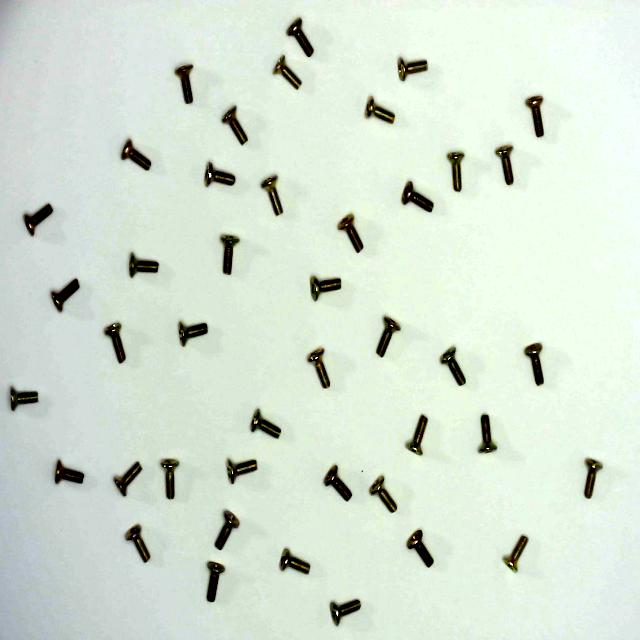Screws: (115, 134, 162, 178), (331, 205, 368, 257), (219, 105, 262, 149), (258, 168, 290, 223), (305, 342, 335, 400), (436, 338, 470, 389), (274, 542, 316, 583), (520, 333, 548, 393), (99, 319, 131, 369), (247, 402, 286, 443), (201, 160, 245, 196), (174, 317, 216, 354), (173, 59, 204, 109), (124, 248, 168, 282), (399, 180, 438, 218), (320, 463, 357, 503), (362, 95, 403, 131), (404, 525, 436, 571), (525, 87, 551, 143), (325, 591, 363, 629), (115, 454, 147, 499), (287, 16, 322, 57), (122, 523, 156, 565), (51, 452, 87, 491), (215, 504, 244, 552), (223, 452, 261, 488), (271, 59, 305, 99), (218, 226, 242, 282), (51, 273, 84, 313), (474, 408, 500, 458), (21, 196, 54, 235), (305, 269, 344, 302), (374, 312, 399, 363), (494, 141, 520, 190), (405, 411, 431, 460), (578, 454, 604, 503), (7, 379, 41, 416), (368, 474, 399, 514), (395, 54, 439, 82), (502, 535, 531, 574), (158, 452, 180, 503), (446, 145, 468, 194), (206, 559, 228, 602)
